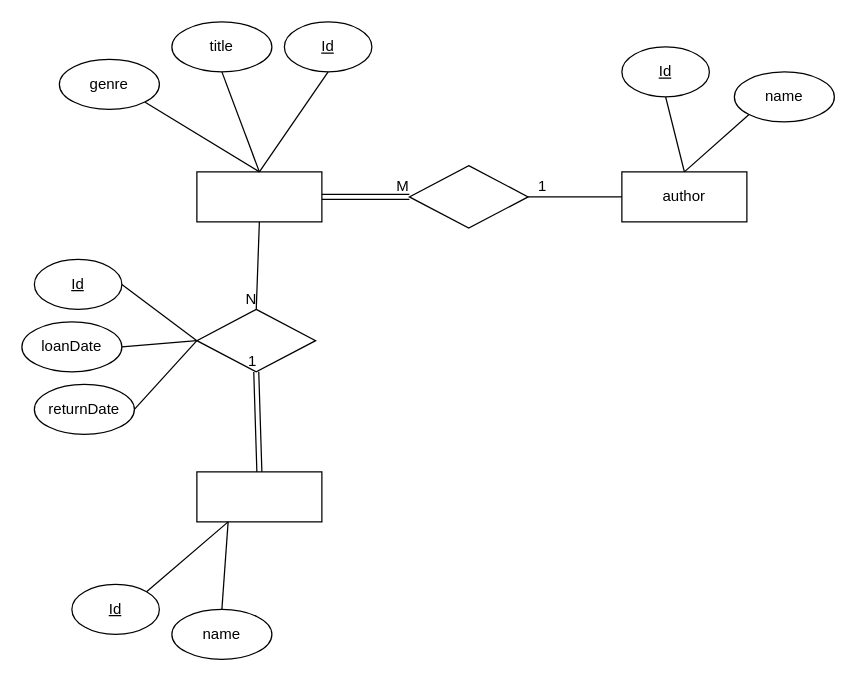
This 856x681 diagram has some shape labels left out. Each missing label, with the box of its shape:
book: (196, 171, 322, 222)
loan: (196, 308, 316, 372)
loaner: (196, 471, 322, 522)
writtenBy: (408, 164, 528, 228)
